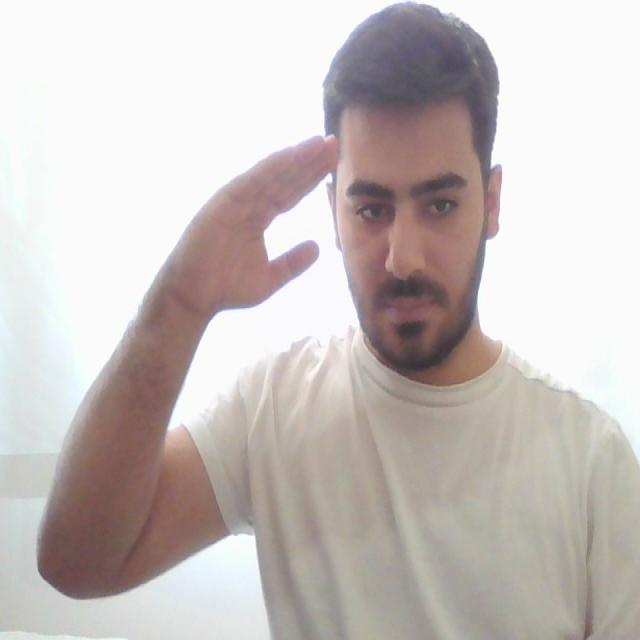Merhaba: (158, 92, 375, 345)
